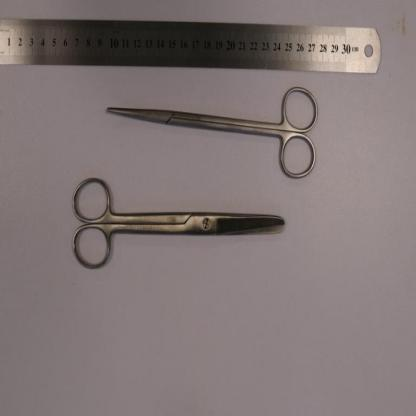7 Metzenbaum Scissors: (107, 82, 320, 180)
Dressing Scissors: (71, 176, 285, 270)
